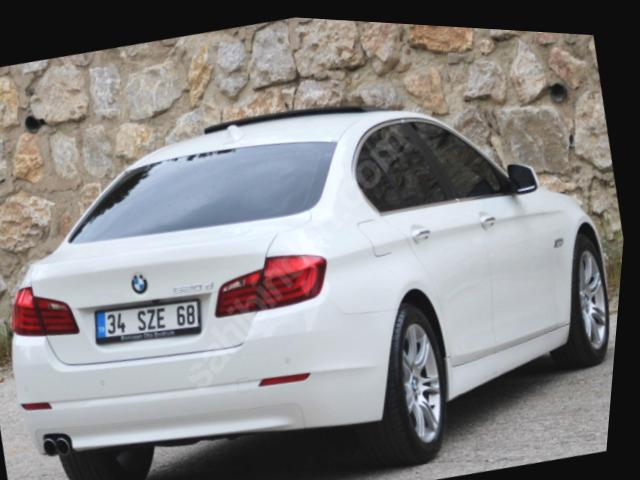plaka: (94, 299, 200, 344)
